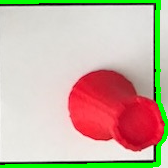Red Castle: (63, 66, 165, 155)
